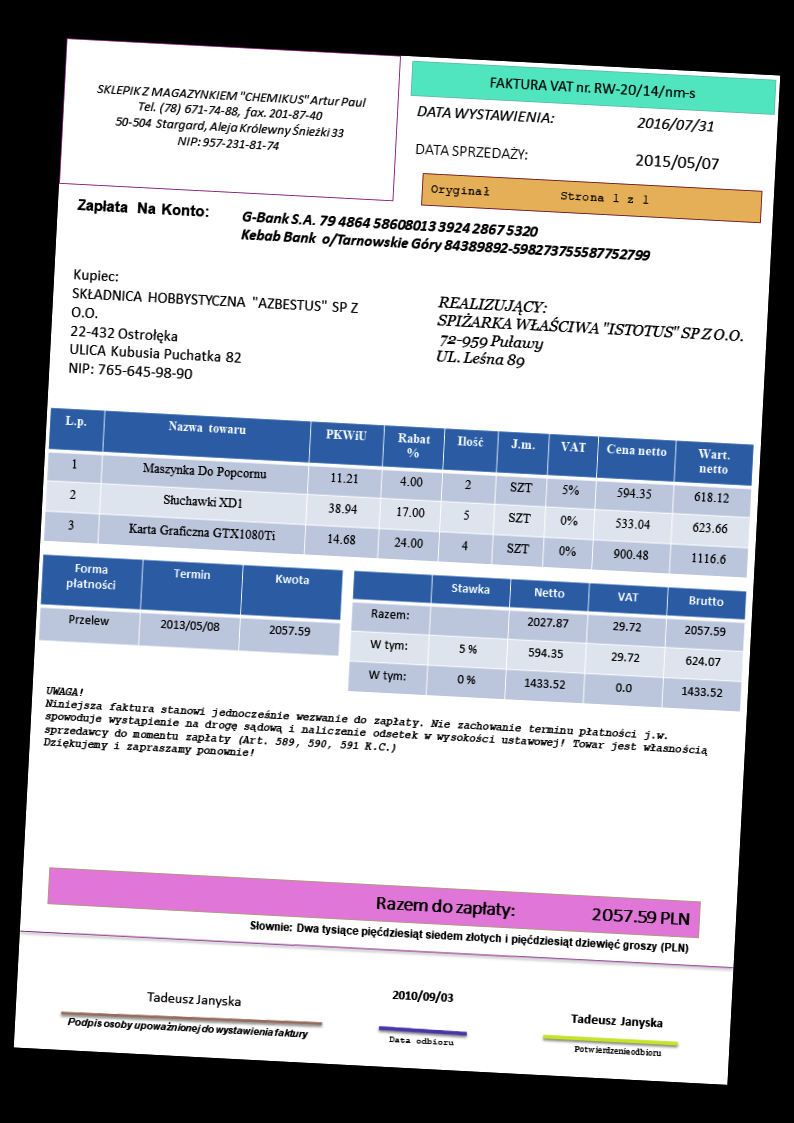Table: (42, 406, 756, 579), (346, 569, 747, 713), (37, 552, 344, 658)
TextBox: (41, 681, 714, 785), (64, 265, 362, 390), (431, 292, 748, 384), (237, 206, 654, 265), (89, 76, 369, 160), (246, 915, 691, 958), (372, 889, 694, 930), (63, 1010, 312, 1042), (486, 69, 698, 105), (428, 179, 653, 210), (414, 100, 557, 127), (75, 195, 210, 220), (412, 137, 531, 165), (569, 1008, 667, 1033), (631, 149, 723, 175), (144, 987, 244, 1010), (633, 112, 716, 135), (572, 1043, 664, 1061), (389, 984, 456, 1006), (386, 1032, 456, 1050)
